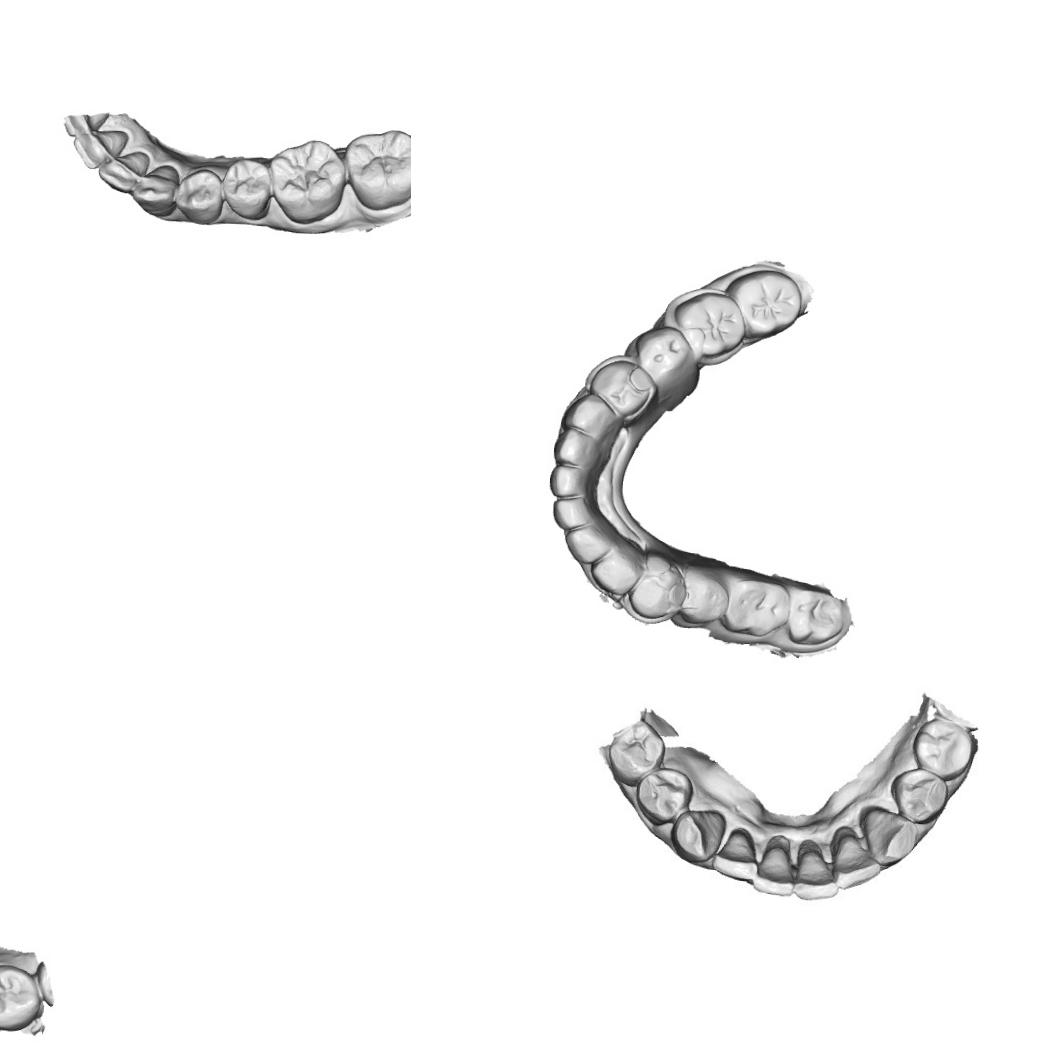canine: (857, 805, 919, 866), (667, 807, 728, 864), (560, 390, 622, 442), (130, 162, 180, 220), (588, 546, 635, 596)
incisor: (831, 822, 884, 893), (790, 838, 839, 903), (710, 826, 762, 883), (750, 840, 796, 898), (72, 128, 130, 171), (97, 148, 150, 195), (552, 426, 599, 464), (564, 527, 610, 565), (550, 496, 594, 530), (548, 464, 587, 498)
molar: (269, 136, 347, 225), (722, 267, 804, 343), (342, 126, 411, 213), (671, 289, 748, 359), (719, 575, 792, 638), (786, 587, 846, 648)
premolar: (586, 356, 661, 426), (631, 324, 698, 398), (910, 718, 976, 780), (608, 720, 668, 787), (886, 763, 948, 824), (634, 766, 696, 826), (626, 560, 684, 622), (220, 156, 272, 221), (0, 963, 44, 1032), (175, 167, 224, 225), (683, 566, 730, 625)
